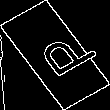P_SW: (18, 26, 92, 84)
